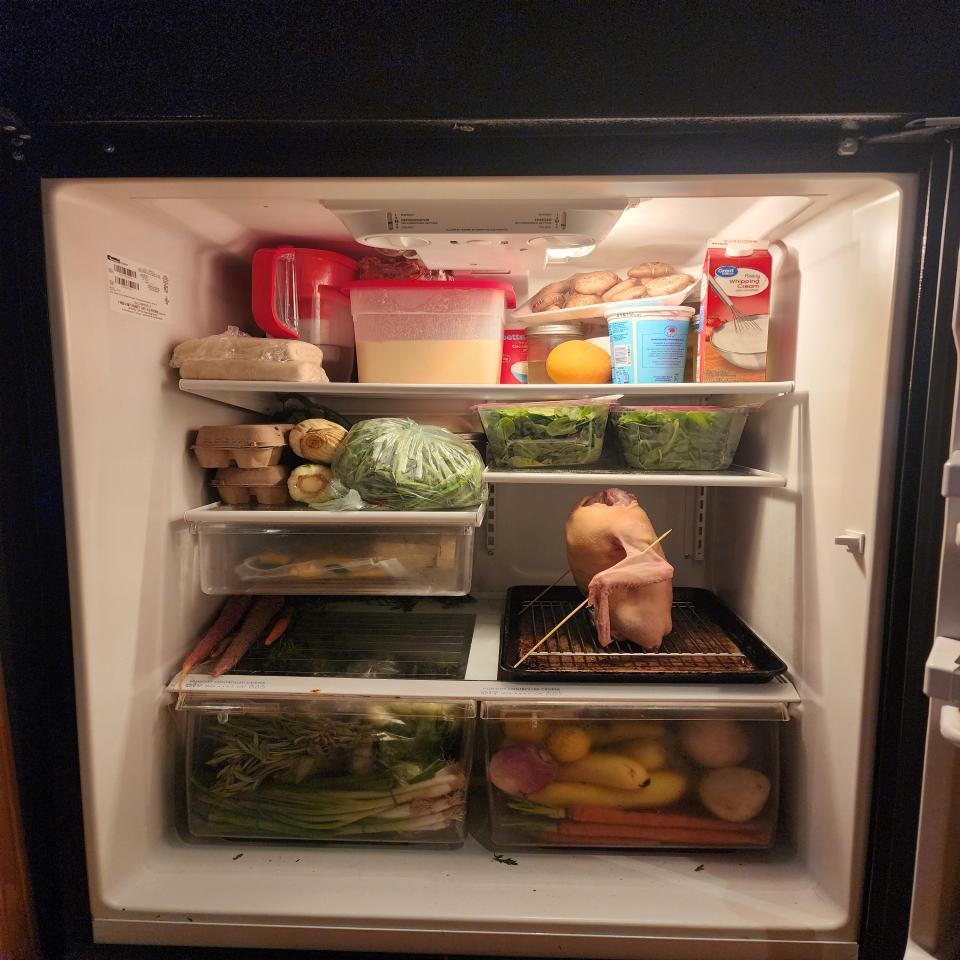Huevos: (189, 424, 296, 468), (209, 466, 291, 504)
Yogur: (603, 305, 696, 384), (499, 322, 540, 384)
Zanahoria: (182, 591, 298, 679), (538, 805, 774, 846)
